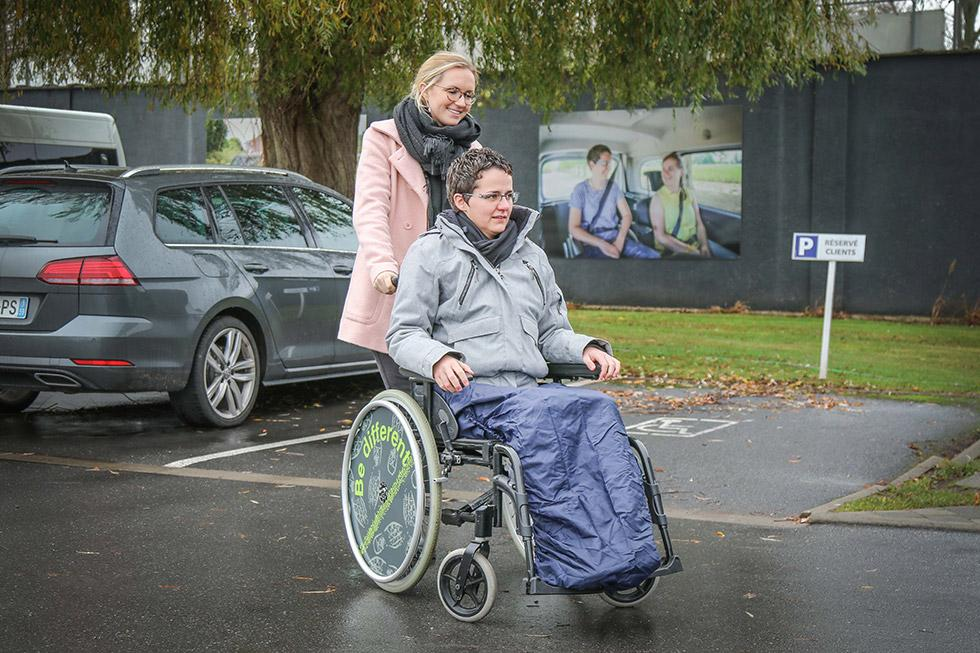push_wheelchair: (339, 51, 524, 550)
wheelchair: (341, 149, 684, 622)
